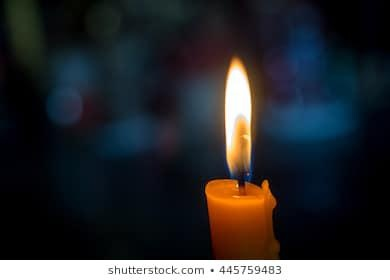fire: (221, 51, 252, 175)
